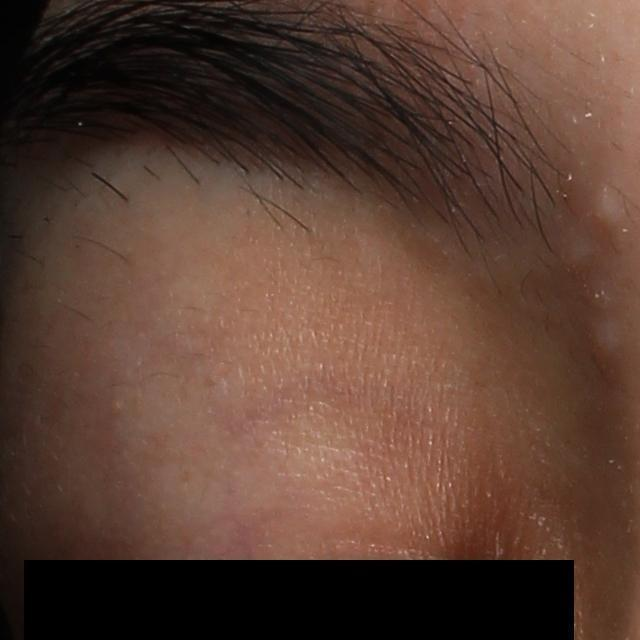comedo: (585, 317, 634, 360), (588, 187, 625, 227)
